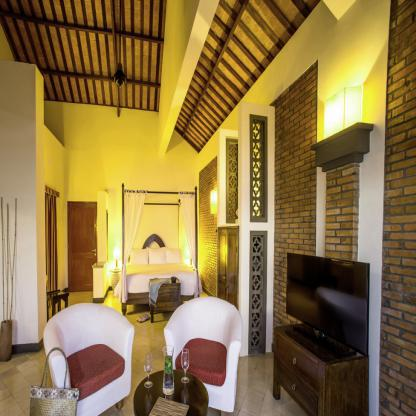door: (67, 202, 98, 292)
hinged: (68, 282, 70, 286), (68, 206, 69, 212), (68, 244, 69, 249)
lever: (91, 250, 96, 252)
